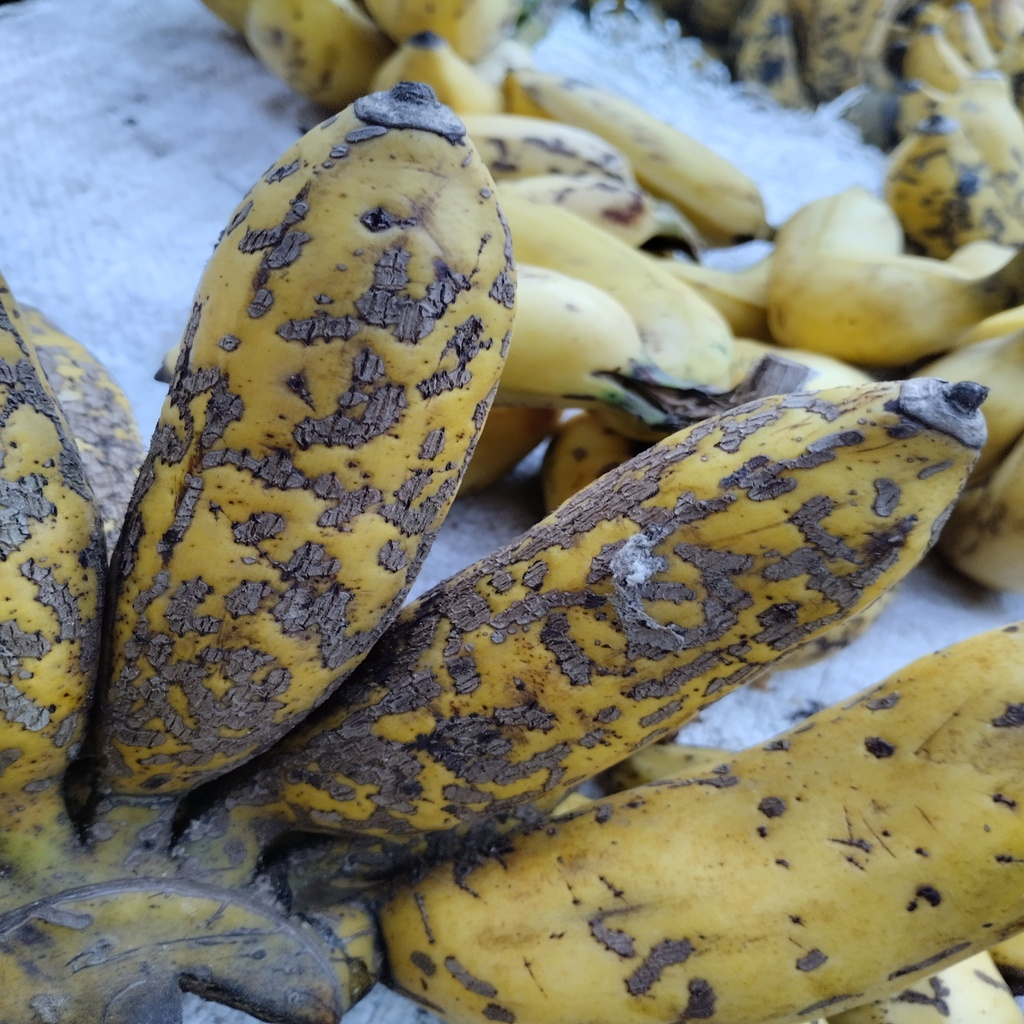unhealthy: (247, 378, 979, 848), (104, 87, 513, 801)
